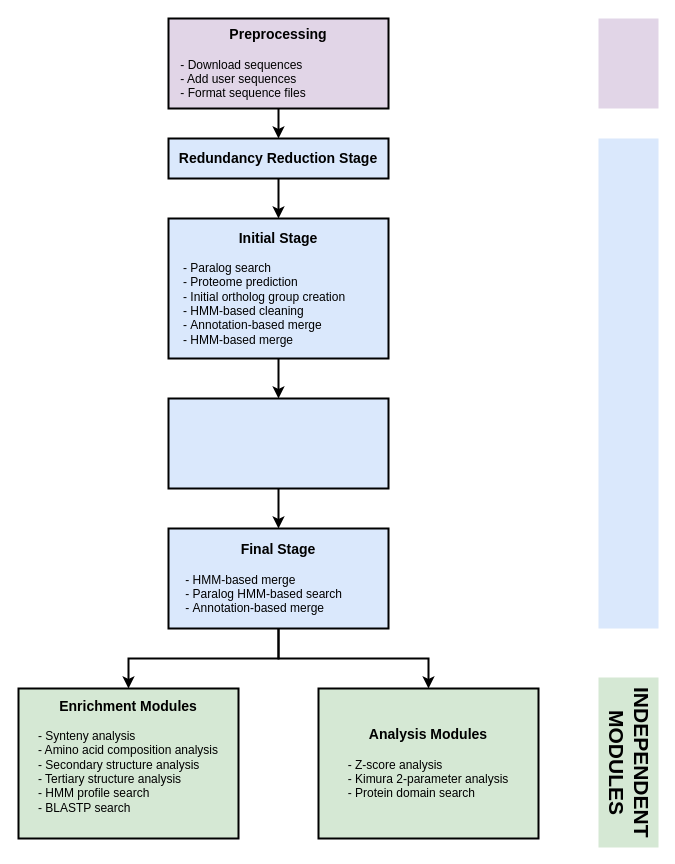
The diagram is 675 pixels wide and 864 high, and some of its shapes have lost their labels. The shapes that lost their labels are listed below. From the top down, each one's box as (x1, y1, x2, y2) in pixels, then its label:
(598, 18, 658, 108): PP
(598, 138, 658, 628): CORE PIPELINE
(167, 397, 389, 489): Enrichment Stage - HMM-based search - BlastP search
